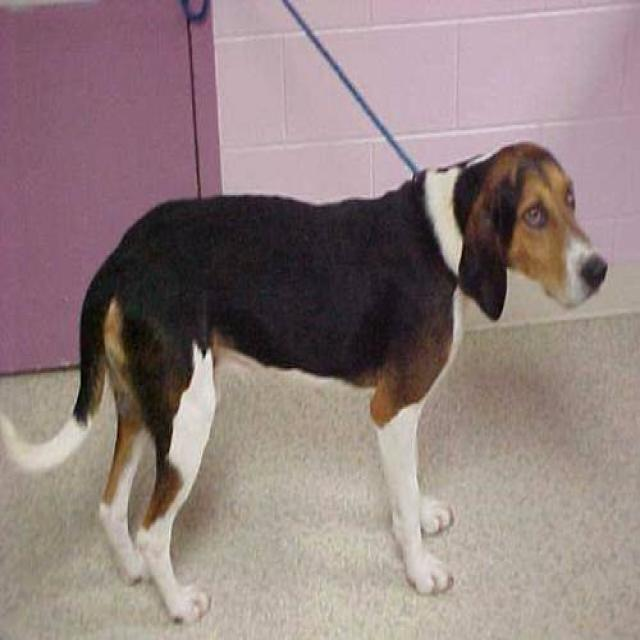dog: (0, 138, 608, 624)
